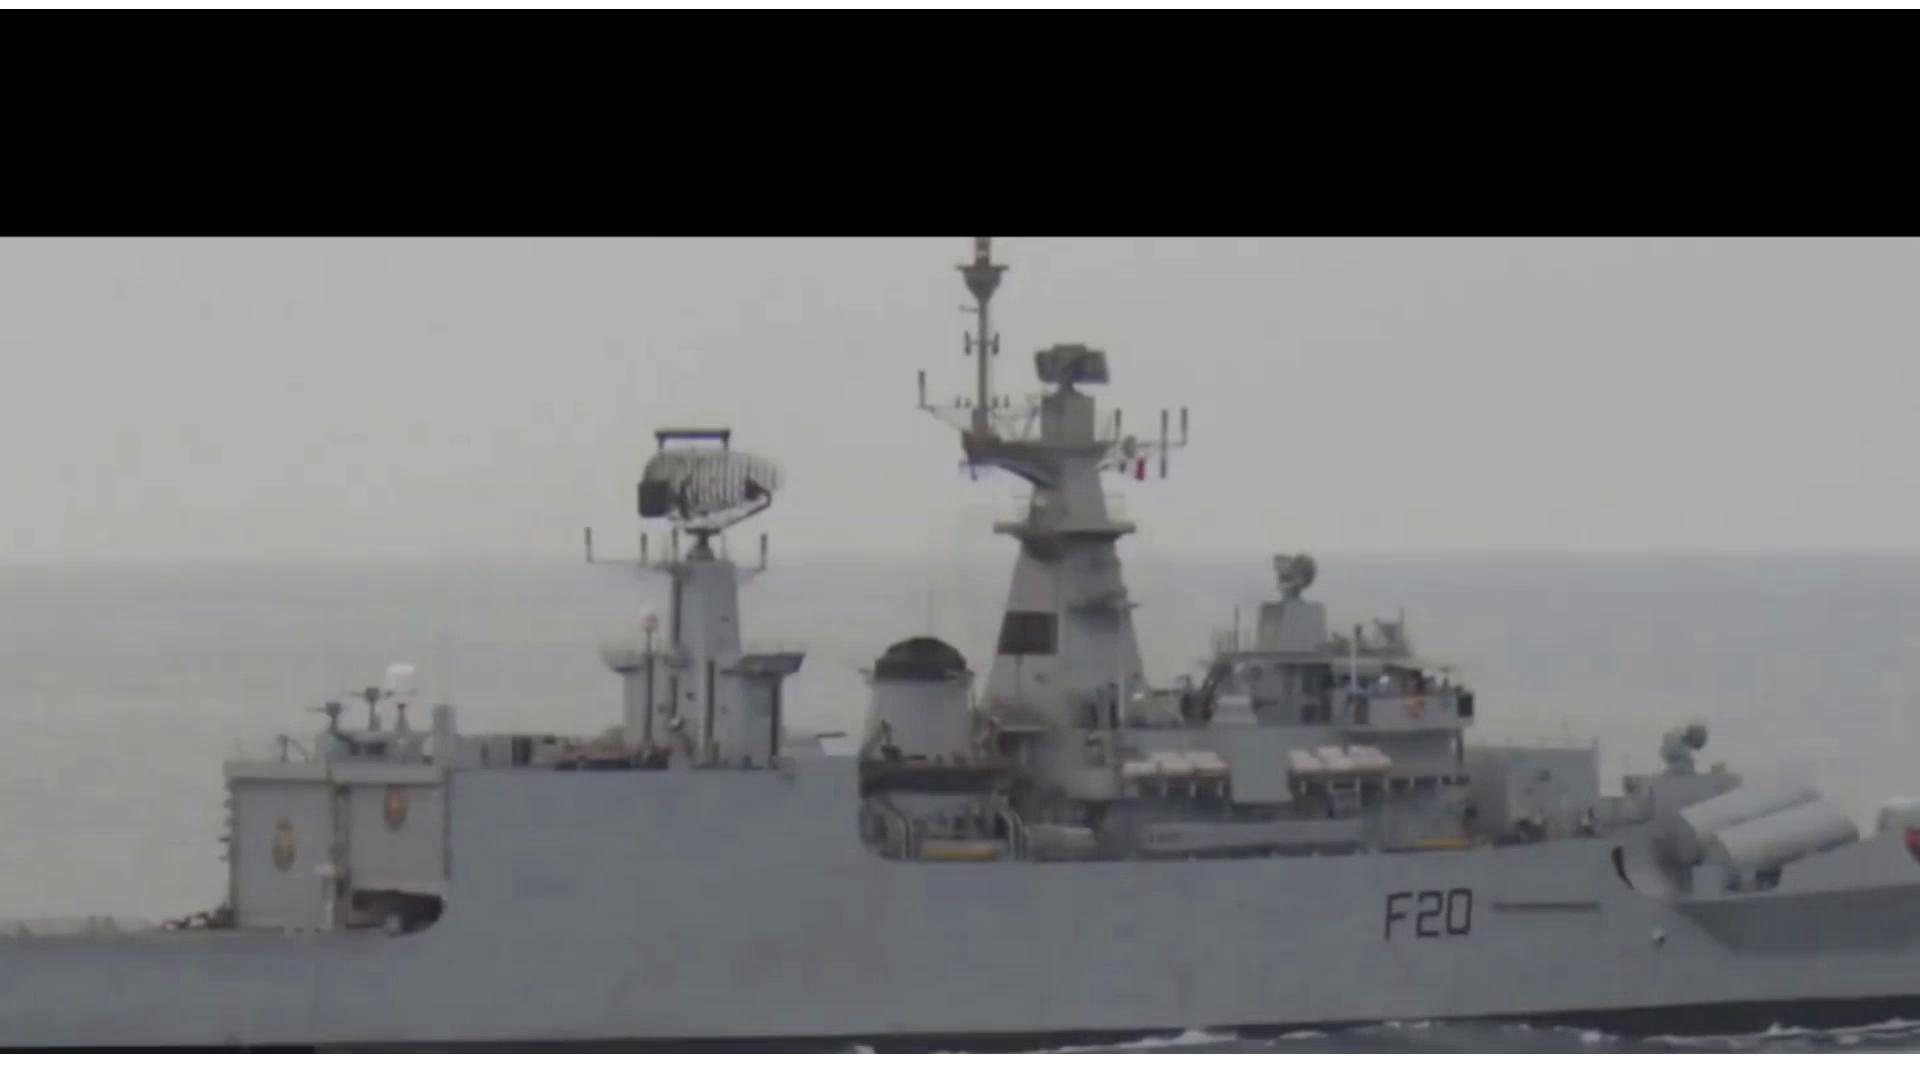OCR: (1374, 880, 1479, 950)
